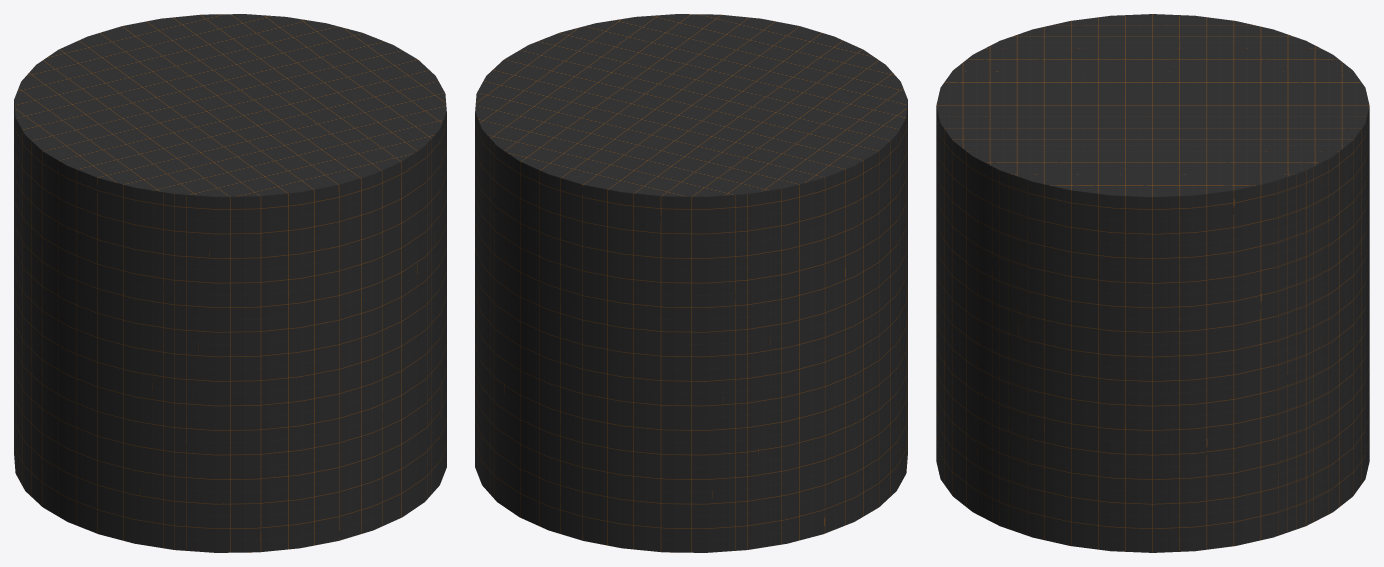
File: rotate.obj
3 renders of one model, left to right at view 1: azimuth 30°, elevation 25°; view 2: azimuth 150°, elevation 25°; view 3: azimuth 270°, elevation 25°, orthographic.
Parts seen in each view (by area): view 1: mesh_591.001; view 2: mesh_591.001; view 3: mesh_591.001.
Boxes of the visible parts, bbox=[...] form: mesh_591.001: bbox=[14, 14, 446, 552]; mesh_591.001: bbox=[475, 14, 907, 552]; mesh_591.001: bbox=[936, 14, 1369, 552].
Bounding box in the file's own units: 26.01 × 23.57 × 26.01.
